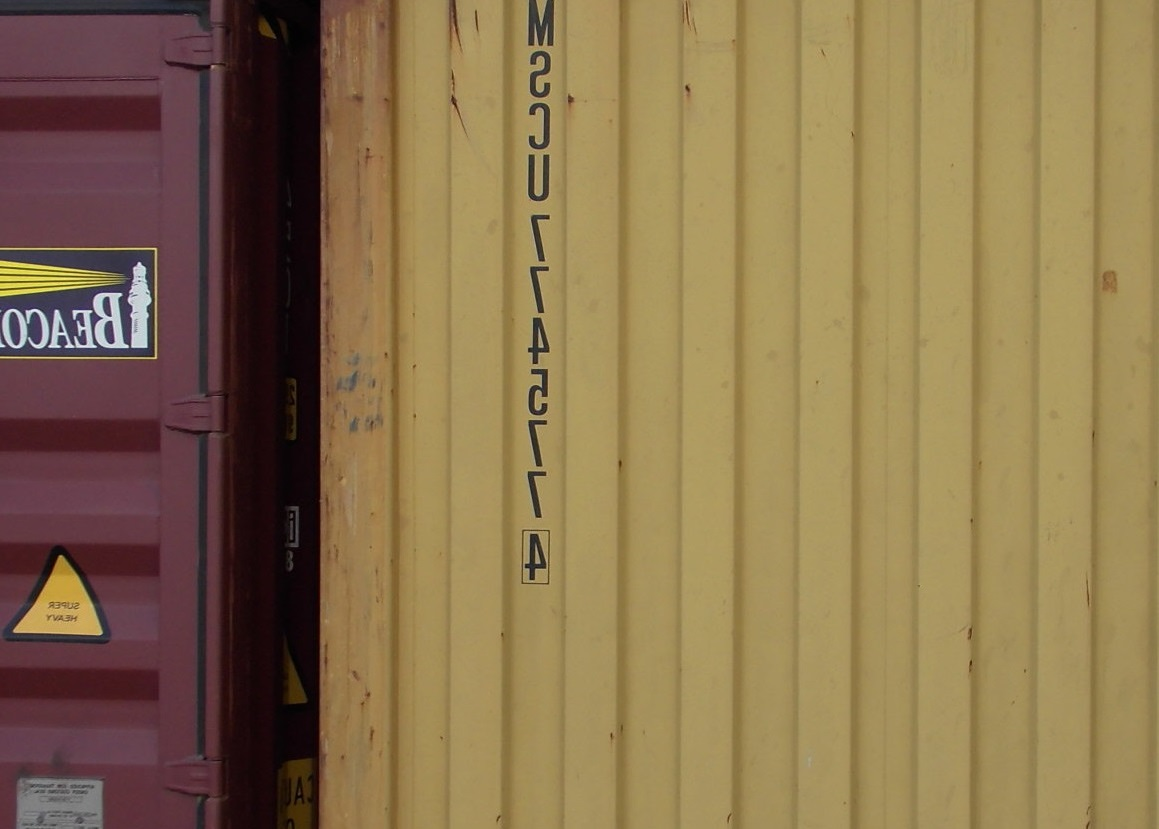container_no_door: (311, 6, 1151, 817)
